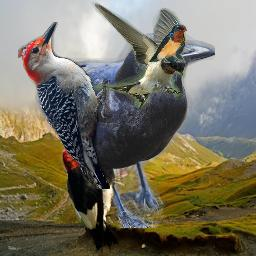Crow: (35, 33, 215, 228)
Swallow: (84, 1, 186, 109), (148, 24, 187, 63)
Woodpecker: (18, 22, 110, 189), (61, 144, 128, 254)
